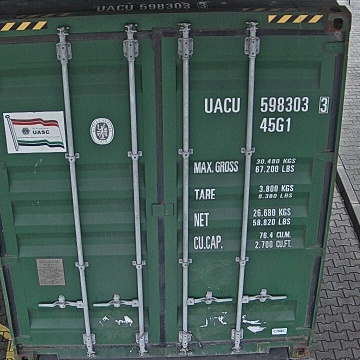serial_id: (203, 96, 329, 112)
